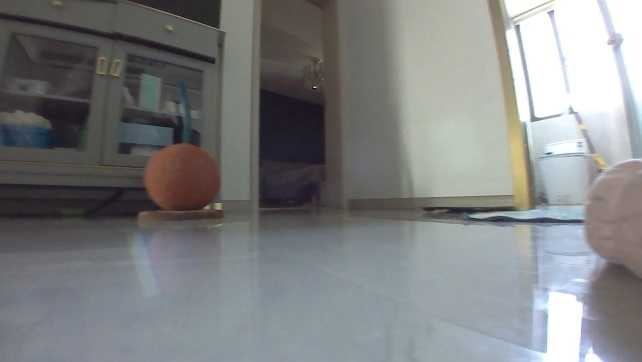blanket: (462, 205, 582, 225)
toilet: (535, 137, 591, 203)
weight_scale: (418, 200, 520, 215)
